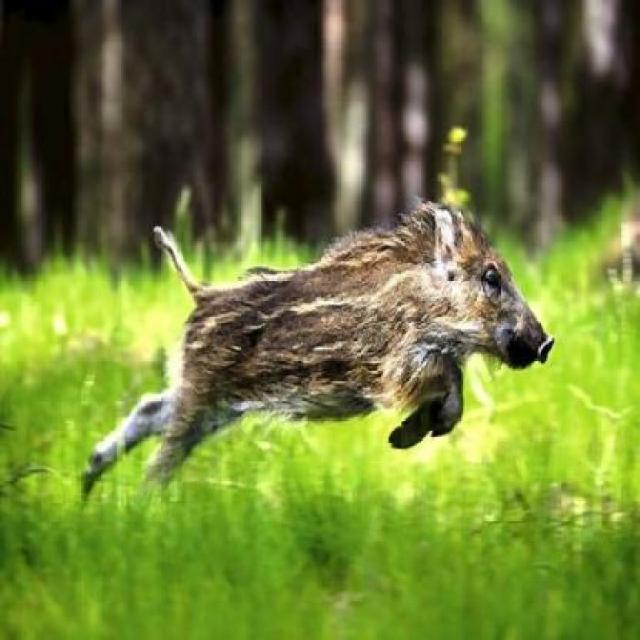wildboar: (77, 192, 563, 506)
